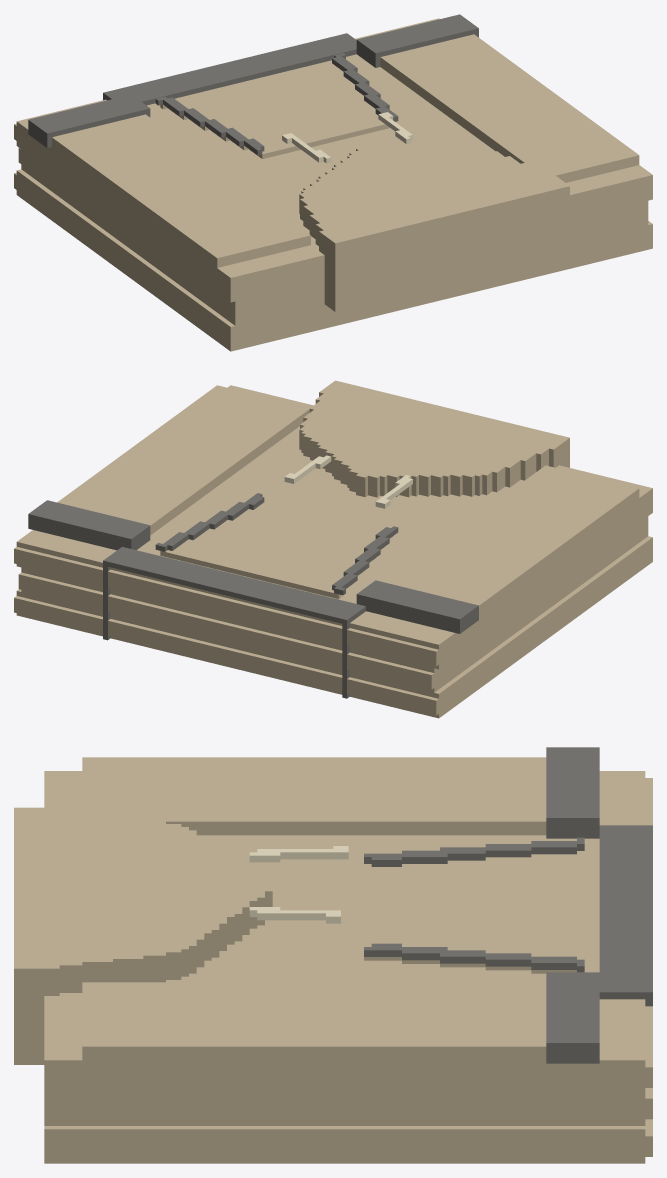
File: wool_hoodie.glb
3 renders of one model, top to bottom at view 1: azimuth 30°, elevation 25°; view 2: azimuth 150°, elevation 25°; view 3: azimuth 270°, elevation 25°, orthographic. The views are drawn at different scales.
Visible parts, largest first — view 1: wool_hoodie:compound; view 2: wool_hoodie:compound; view 3: wool_hoodie:compound.
Boxes of the visible parts, bbox=[...] form: wool_hoodie:compound: bbox=[14, 14, 652, 351]; wool_hoodie:compound: bbox=[14, 380, 652, 718]; wool_hoodie:compound: bbox=[14, 747, 652, 1163].
Size of the model in its own units: 0.368 by 0.08 by 0.336.
